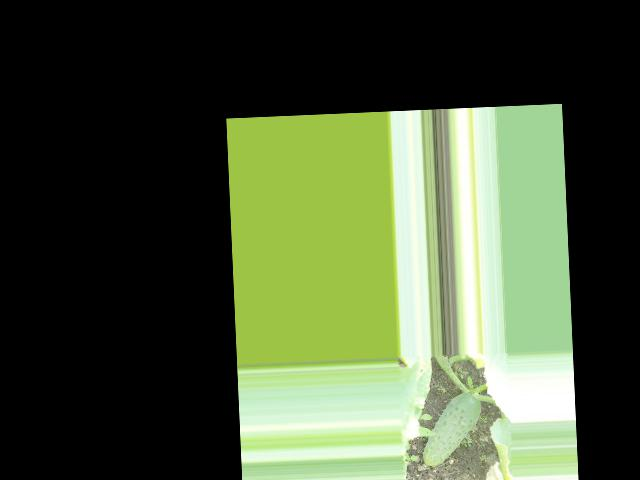cucumber: (420, 391, 483, 466)
